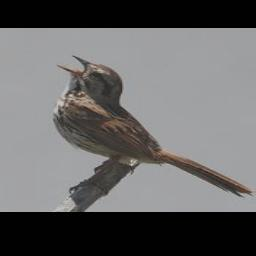Sparrow: (54, 53, 256, 199)
